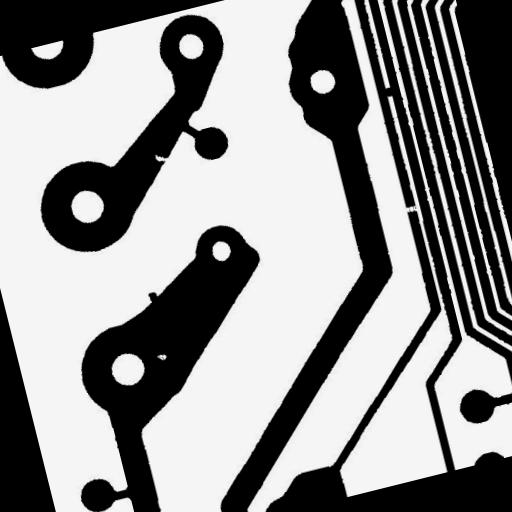mousebite: (145, 142, 179, 171)
open: (392, 196, 427, 224)
pin-hole: (148, 344, 176, 370)
short: (372, 78, 404, 108)
spur: (139, 282, 167, 311)
